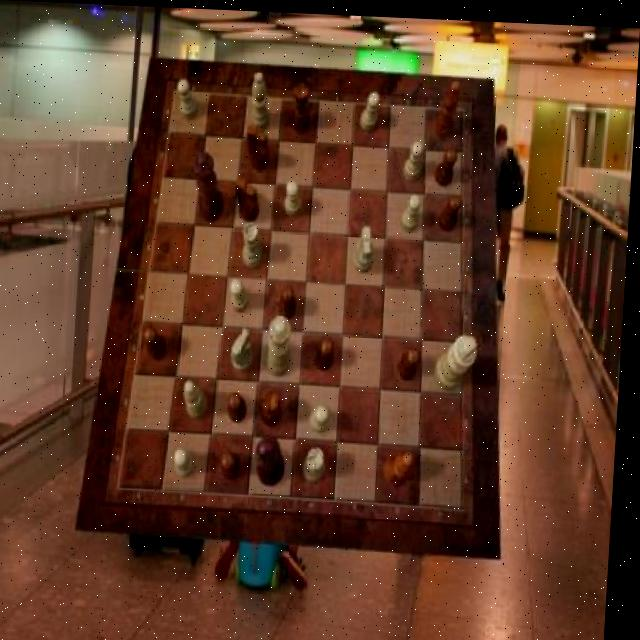bishop: (435, 75, 462, 136), (389, 447, 418, 484)
black-bishop: (260, 433, 292, 483)
black-king: (236, 176, 263, 221), (247, 124, 273, 169)
black-knight: (437, 143, 461, 183), (439, 191, 464, 228), (147, 324, 172, 359), (401, 342, 425, 377), (281, 283, 300, 318), (232, 389, 253, 420), (319, 335, 338, 369), (226, 449, 247, 477)
black-pawn: (193, 150, 229, 220)
black-queen: (293, 80, 314, 130), (265, 387, 288, 425)
black-rook: (251, 69, 274, 130), (187, 378, 213, 417)
white-bishop: (438, 330, 483, 387)
white-king: (356, 222, 379, 269), (234, 326, 258, 369)
white-knight: (176, 77, 200, 119), (406, 137, 426, 178), (362, 88, 382, 127), (232, 276, 254, 311), (404, 190, 423, 228), (180, 446, 201, 477), (288, 178, 306, 213), (315, 402, 335, 431)
white-pawn: (268, 313, 297, 376)
white-queen: (244, 220, 267, 266), (308, 444, 332, 479)
